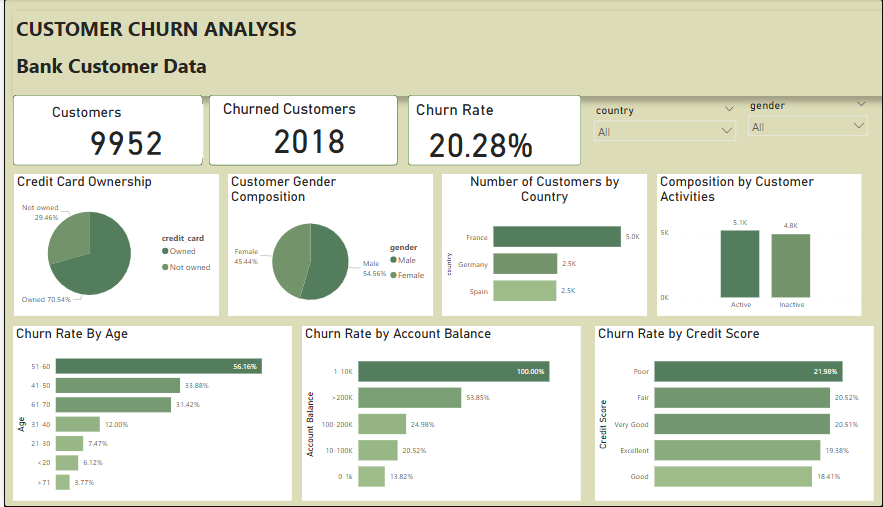

This screenshot's page, from the dashboard's own definition file:
{"tool":"powerbi","page":{"name":"Page 1","canvas":[1600,920],"ordinal":0},"visuals":[{"type":"shape","box":[9.2,0,577.8,202.4],"z":0},{"type":"textbox","box":[33.1,18.4,518.9,167.4],"z":1000},{"type":"shape","box":[1359.8,1.8,241,196.9],"z":2000},{"type":"card","title":"Churn Rate","fields":{"Values":["customer data.Churn Rate"]},"box":[1378.2,18.4,209.8,167.4],"z":3000},{"type":"shape","box":[1008.3,0,334.9,202.4],"z":4000},{"type":"card","title":"Customers Churned","fields":{"Values":["customer data.Customer Churned"]},"box":[1056.2,18.4,261.3,167.4],"z":5000},{"type":"shape","box":[596.2,0,406.6,198.7],"z":6000},{"type":"card","title":"Customers","fields":{"Values":["customer data.Customers"]},"box":[612.7,18.4,366.2,167.4],"z":7000},{"type":"shape","box":[9.2,198.7,406.6,288.9],"z":8000},{"type":"pieChart","title":"Customer Gender Composition","fields":{"Y":["CountNonNull(customer data.gender)"],"Category":["customer data.gender"]},"box":[47.8,222.6,340.4,250.2],"z":9000},{"type":"shape","box":[415.8,198.7,393.8,294.4],"z":10000},{"type":"clusteredColumnChart","title":"Composition by Customer Activities","fields":{"Category":["customer data.active_member"],"Y":["CountNonNull(customer data.active_member)"]},"box":[487.6,219,287,268.6],"z":11000},{"type":"shape","box":[813.3,204.2,388.2,288.9],"z":12000},{"type":"barChart","title":"Number of Customers by Country","fields":{"Category":["customer data.country"],"Y":["Sum(customer data.customer_id)"]},"box":[844.6,237.4,318.3,250.2],"z":13000},{"type":"shape","box":[1201.5,198.7,399.3,292.6],"z":14000},{"type":"pieChart","fields":{"Y":["CountNonNull(customer data.credit_card)"],"Category":["customer data.credit_card"]},"box":[1232.8,222.6,338.6,253.9],"z":15000},{"type":"shape","box":[0,493.1,552,426.9],"z":16000},{"type":"lineClusteredColumnComboChart","title":"Churn Rate by Credit Score","fields":{"Category":["Credit Score Group.Credit Score Group"],"Y":["CountNonNull(customer data.customer_id)"],"Y2":["customer data.Churn Rate"]},"box":[47.8,518.9,454.5,380.9],"z":17000},{"type":"shape","box":[552,493.1,504.2,426.9],"z":18000},{"type":"lineClusteredColumnComboChart","title":"Churn Rate By Age","fields":{"Y":["CountNonNull(customer data.customer_id)"],"Category":["Age Group.Age Group"],"Y2":["customer data.Churn Rate"]},"box":[636.6,518.9,366.2,380.9],"z":19000},{"type":"shape","box":[1059.8,493.1,528.1,426.9],"z":20000},{"type":"lineClusteredColumnComboChart","title":"Churn Rate by Account Balance","fields":{"Y":["CountNonNull(customer data.customer_id)"],"Category":["Balance Group.Balance Group"],"Y2":["customer data.Churn Rate"]},"box":[1113.2,518.9,436.1,380.9],"z":21000}]}

Visuals, with their boxes in screenshot pixels (x1, y1, x2, y2), scaled from the page's 1600x920 canvas onto the 883x507 screenshot:
shape: <bbox>5, 0, 324, 112</bbox>
textbox: <bbox>18, 10, 305, 102</bbox>
shape: <bbox>750, 1, 882, 110</bbox>
"Churn Rate" card: <bbox>761, 10, 876, 102</bbox>
shape: <bbox>556, 0, 741, 112</bbox>
"Customers Churned" card: <bbox>583, 10, 727, 102</bbox>
shape: <bbox>329, 0, 553, 110</bbox>
"Customers" card: <bbox>338, 10, 540, 102</bbox>
shape: <bbox>5, 110, 229, 269</bbox>
"Customer Gender Composition" pieChart: <bbox>26, 123, 214, 261</bbox>
shape: <bbox>229, 110, 447, 272</bbox>
"Composition by Customer Activities" clusteredColumnChart: <bbox>269, 121, 427, 269</bbox>
shape: <bbox>449, 113, 663, 272</bbox>
"Number of Customers by Country" barChart: <bbox>466, 131, 642, 269</bbox>
shape: <bbox>663, 110, 882, 271</bbox>
pieChart - CountNonNull(customer data.credit_card) x customer data.credit_card: <bbox>680, 123, 867, 263</bbox>
shape: <bbox>0, 272, 305, 506</bbox>
"Churn Rate by Credit Score" lineClusteredColumnComboChart: <bbox>26, 286, 277, 496</bbox>
shape: <bbox>305, 272, 583, 506</bbox>
"Churn Rate By Age" lineClusteredColumnComboChart: <bbox>351, 286, 553, 496</bbox>
shape: <bbox>585, 272, 876, 506</bbox>
"Churn Rate by Account Balance" lineClusteredColumnComboChart: <bbox>614, 286, 855, 496</bbox>
